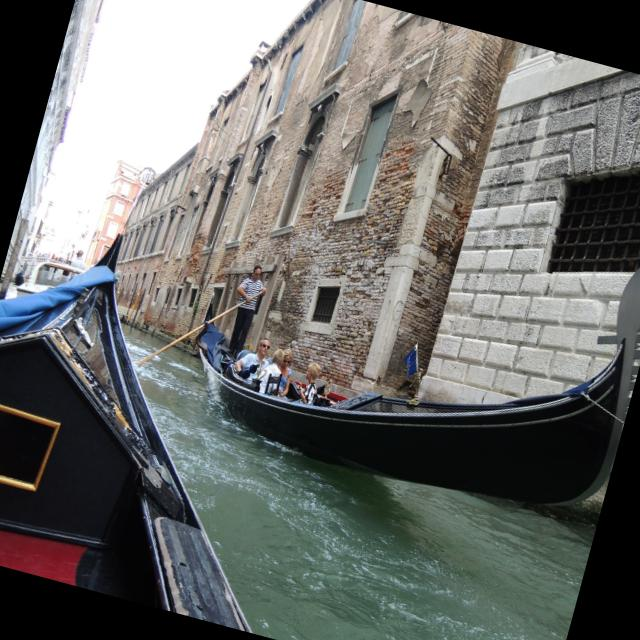boat: (168, 137, 640, 541)
